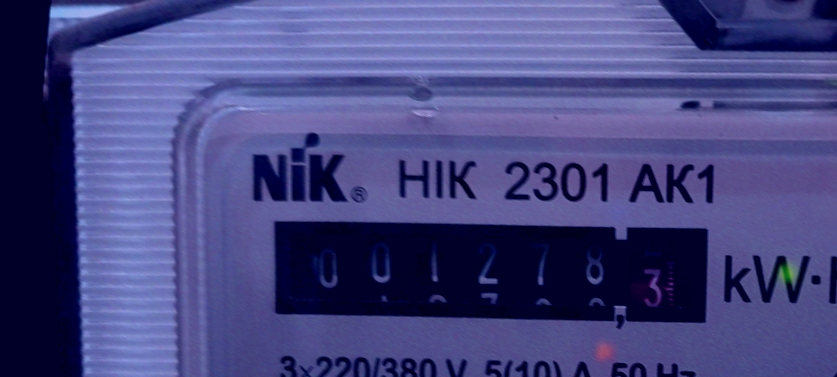0: (312, 240, 343, 289), (363, 235, 394, 284)
1: (422, 234, 444, 282)
2: (471, 237, 501, 286), (638, 235, 663, 257)
3: (635, 262, 665, 308)
7: (524, 237, 550, 285)
8: (579, 238, 607, 284)
screen: (249, 174, 730, 364)
